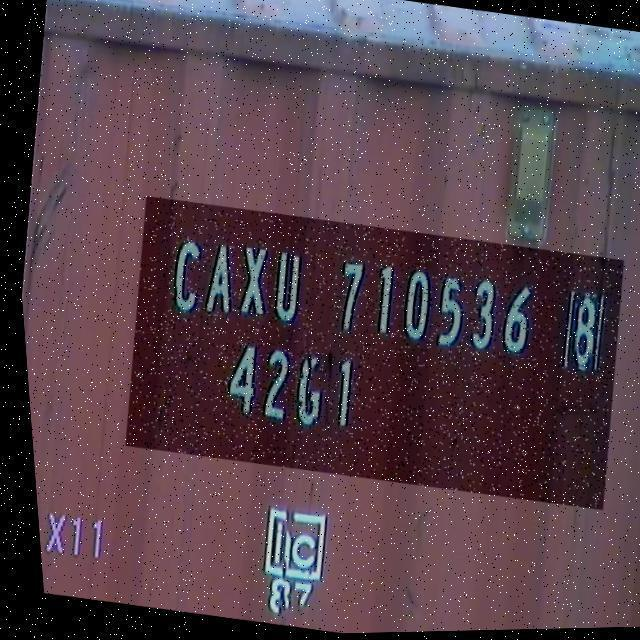container_number_h: (104, 188, 634, 521)
